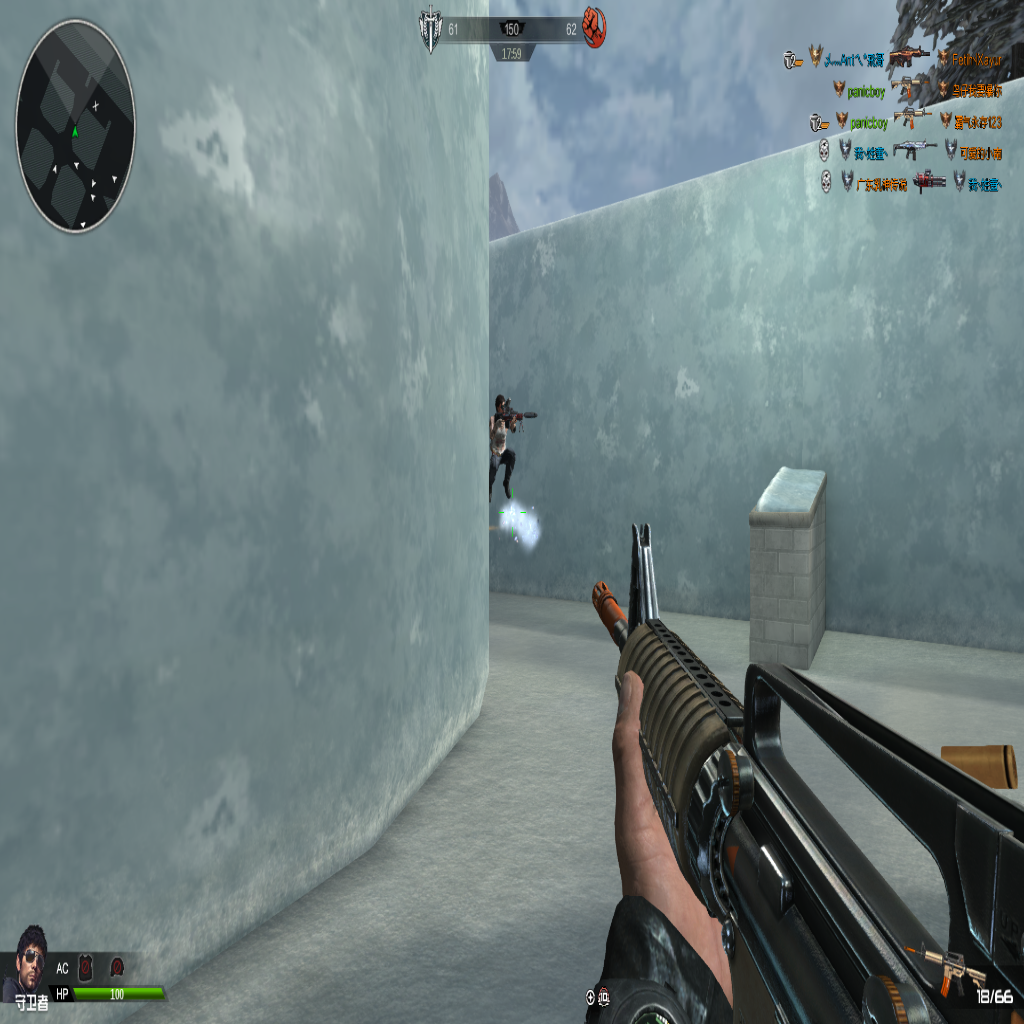tt: (489, 393, 524, 503)
